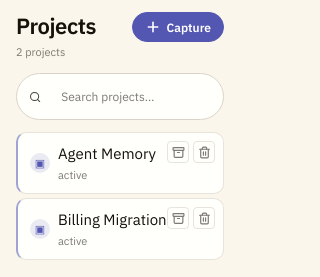
Test case: V5EntityList › filters entities by search query
Check: the link "▣ Agent Memory active" is shown, box [30,144,156,182]
Type "billing" into the search field labelled "Search projects".
click(130, 97); type("billing")  # box [49,81,211,112]
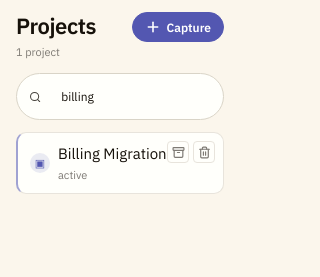
Check: the link "▣ Billing Migration active" is shown, box [30,144,167,182]
Check: the link "Agent Memory" is gone
